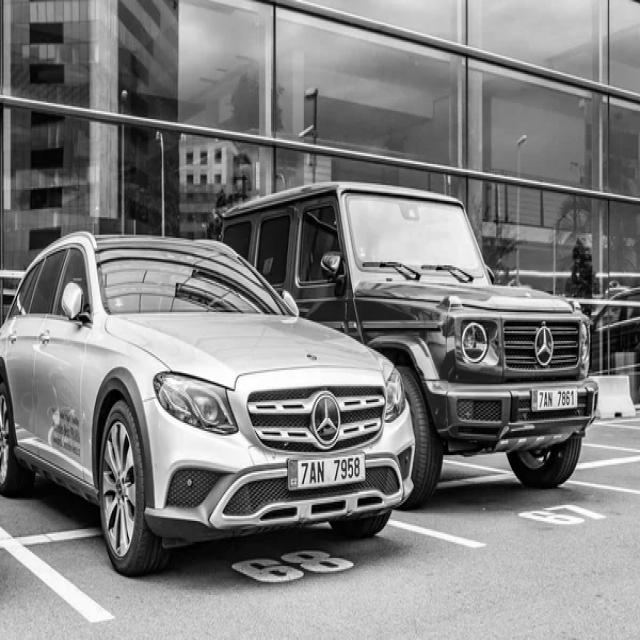Car: (0, 233, 415, 575), (219, 181, 597, 494)
